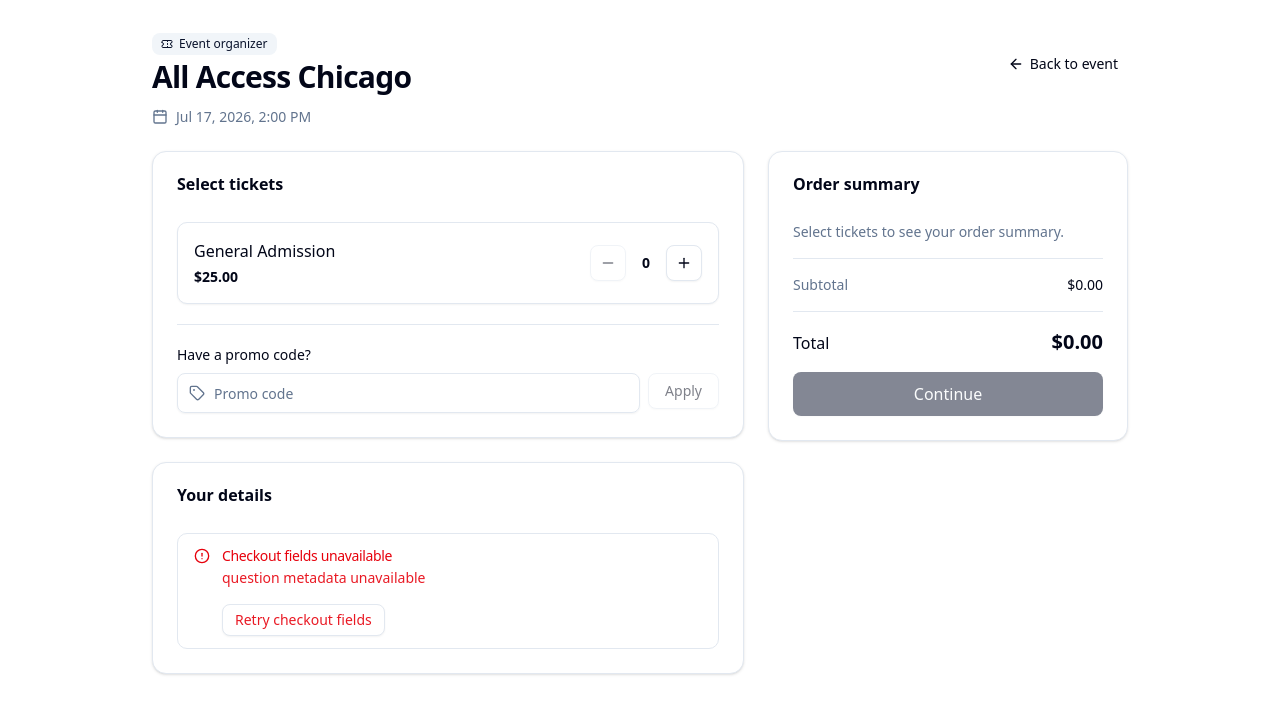
Test: CheckoutFlow buyer validation › blocks checkout with a retryable error when question metadata fails to load
Expected: the text "General Admission" is shown, [194,239,335,263]
Expected: the text "Checkout fields unavailable" is shown, [222,546,392,565]
Click the button named "Increase General Admission quantity" at x=684, y=263, box [666,245,702,281]
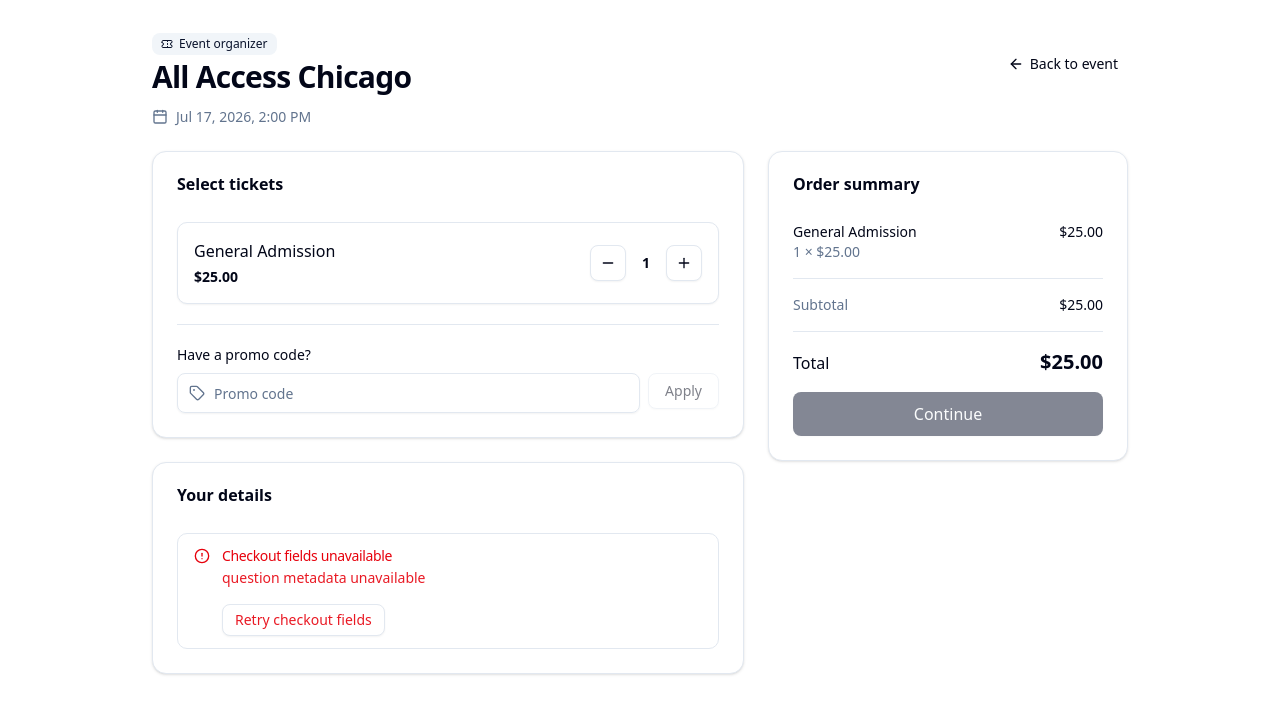
Expected: the button "Continue" is disabled, [793,392,1103,436]
Click the button "Retry checkout fields" at x=303, y=620, box [222,604,385,636]
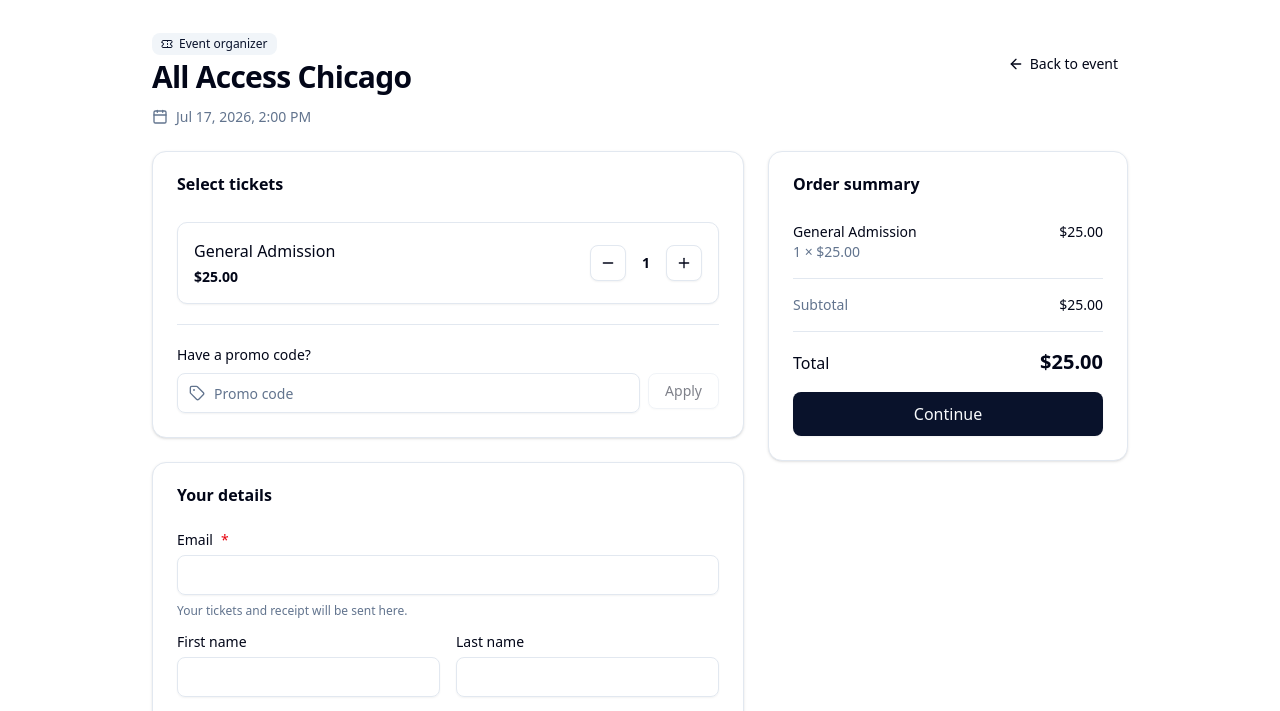
Result: the text "Checkout fields unavailable" is gone
Result: the field labelled "Email *" is shown at [177,555,719,595]
Result: the button "Continue" is enabled at [793,392,1103,436]
